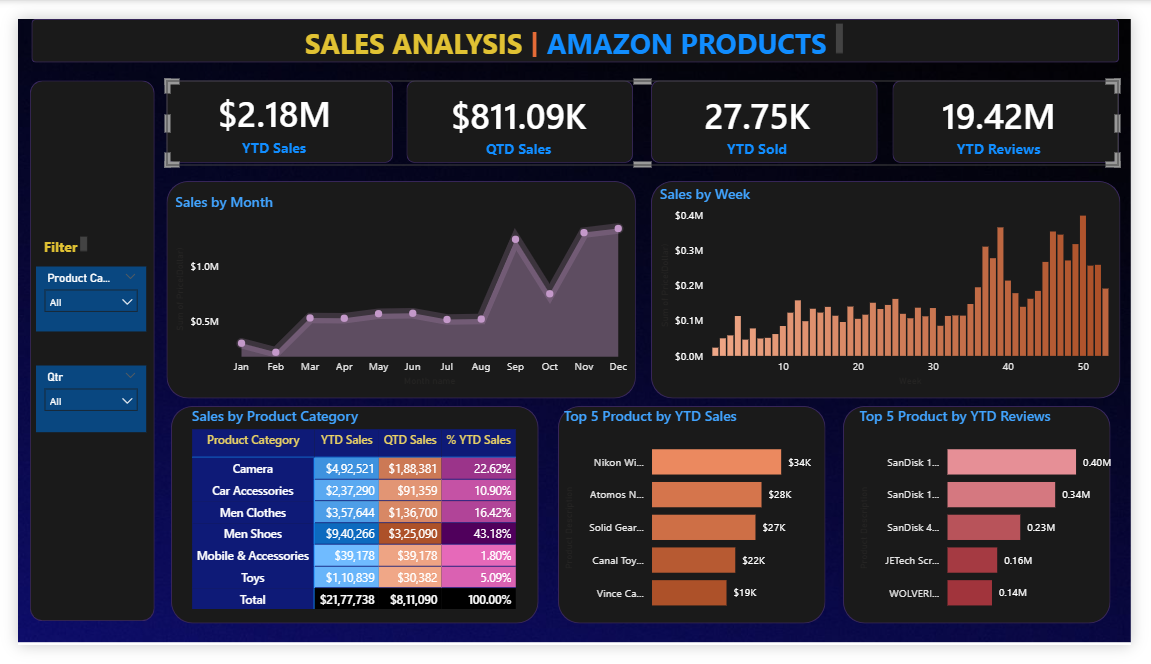

The dashboard page shown, as its layout file describes it:
{"tool":"powerbi","page":{"name":"Page 1","canvas":[1280,720],"ordinal":0},"visuals":[{"type":"shape","box":[170.7,70.7,260.3,94.8],"z":0,"group":"g1"},{"type":"shape","box":[15.5,0,1250,50],"z":0},{"type":"card","fields":{"Values":["Amazon_Data.YTD Sales"]},"box":[170.7,70.7,246.6,96.6],"z":1000,"group":"g1"},{"type":"textbox","box":[324.1,0,629.3,48.3],"z":1000},{"type":"shape","box":[446.6,70.7,260.3,94.8],"z":2000,"group":"g1"},{"type":"shape","box":[13,69.9,143.1,621.3],"z":2000},{"type":"card","fields":{"Values":["Amazon_Data.QTD Sales"]},"box":[453.5,72.4,243.1,96.6],"z":3000,"group":"g1"},{"type":"group","id":"g1","title":"Group 1","box":[170.7,70.7,1094.8,98.3],"z":3000},{"type":"shape","box":[1005.2,70.7,260.3,94.8],"z":4000,"group":"g1"},{"type":"shape","box":[170.7,186.2,539.7,250],"z":4000},{"type":"shape","box":[727.6,70.7,260.3,94.8],"z":5000,"group":"g1"},{"type":"areaChart","title":"Sales by Month","fields":{"Category":["Date Table.Month name"],"Y":["Sum(Amazon_Data.Price(Dollar))"]},"box":[175.9,198.3,534.5,227.6],"z":5000},{"type":"card","fields":{"Values":["Amazon_Data.YTD Sold"]},"box":[727.6,72.4,243.1,96.6],"z":6000,"group":"g1"},{"type":"shape","box":[727.6,186.2,539.7,250],"z":6000},{"type":"card","fields":{"Values":["Amazon_Data.YTD Reviews"]},"box":[1005.2,72.4,243.1,96.6],"z":7000,"group":"g1"},{"type":"columnChart","title":"Sales by Week","fields":{"Category":["Date Table.Week"],"Y":["Sum(Amazon_Data.Price(Dollar))"]},"box":[732.8,189.7,529.3,236.2],"z":7000},{"type":"shape","box":[175.9,444.8,422.4,250],"z":8000},{"type":"shape","box":[620,445,307.5,250],"z":9000},{"type":"pivotTable","title":"Sales by Product Category","fields":{"Rows":["Amazon_Data.Product Category"],"Values":["Amazon_Data.YTD Sales1","Amazon_Data.QTD Sales","Amazon_Data.YTD Sales"]},"box":[194.8,444.8,384.5,246.6],"z":10000},{"type":"shape","box":[947.5,445,307.5,250],"z":11000},{"type":"clusteredBarChart","title":"Top 5 Product by YTD Sales","fields":{"Category":["Amazon_Data.Product Description"],"Y":["Amazon_Data.YTD Sales"]},"box":[622.5,445,305,250],"z":12000},{"type":"clusteredBarChart","title":"Top 5 Product by YTD Reviews","fields":{"Category":["Amazon_Data.Product Description"],"Y":["Amazon_Data.YTD Reviews"]},"box":[962.5,445,305,250],"z":13000},{"type":"slicer","fields":{"Values":["Amazon_Data.Product Category"]},"box":[21.1,284.6,126.9,74.8],"z":14000},{"type":"slicer","fields":{"Values":["Date Table.Qtr"]},"box":[21.1,398.5,126.9,76.4],"z":15000},{"type":"textbox","box":[24.4,244,60.2,27.7],"z":16000}]}

Visuals, with their boxes in screenshot pixels (x1, y1, x2, y2), scaled from the page's 1280x720 canvas onto the 1151x664 screenshot:
shape: bbox=(153, 65, 388, 153)
shape: bbox=(14, 0, 1138, 46)
card - Amazon_Data.YTD Sales: bbox=(153, 65, 375, 154)
textbox: bbox=(291, 0, 857, 45)
shape: bbox=(402, 65, 636, 153)
shape: bbox=(12, 64, 140, 637)
card - Amazon_Data.QTD Sales: bbox=(408, 67, 626, 156)
"Group 1" group: bbox=(153, 65, 1138, 156)
shape: bbox=(904, 65, 1138, 153)
shape: bbox=(153, 172, 639, 402)
shape: bbox=(654, 65, 888, 153)
"Sales by Month" areaChart: bbox=(158, 183, 639, 393)
card - Amazon_Data.YTD Sold: bbox=(654, 67, 873, 156)
shape: bbox=(654, 172, 1140, 402)
card - Amazon_Data.YTD Reviews: bbox=(904, 67, 1122, 156)
"Sales by Week" columnChart: bbox=(659, 175, 1135, 393)
shape: bbox=(158, 410, 538, 641)
shape: bbox=(558, 410, 834, 641)
"Sales by Product Category" pivotTable: bbox=(175, 410, 521, 638)
shape: bbox=(852, 410, 1129, 641)
"Top 5 Product by YTD Sales" clusteredBarChart: bbox=(560, 410, 834, 641)
"Top 5 Product by YTD Reviews" clusteredBarChart: bbox=(865, 410, 1140, 641)
slicer - Amazon_Data.Product Category: bbox=(19, 262, 133, 331)
slicer - Date Table.Qtr: bbox=(19, 368, 133, 438)
textbox: bbox=(22, 225, 76, 251)
